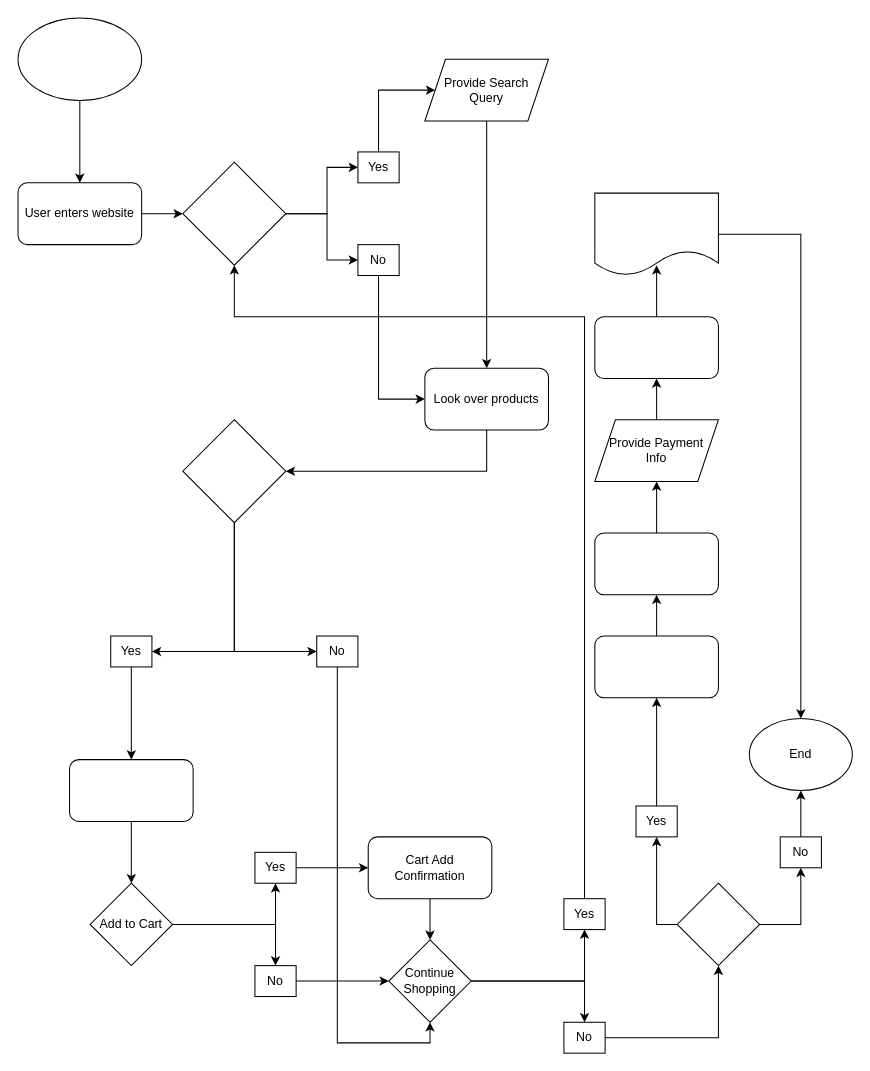
This 870x1071 diagram has some shape labels left out. Each missing label, with the centre of its shape:
"Checkout" belongs at point (718, 924).
"Email" belongs at point (656, 234).
"Open product page" belongs at point (130, 790).
"Order Confirmation" belongs at point (656, 347).
"Searching for Product" belongs at point (234, 213).
"Start" belongs at point (79, 58).
"View Cart" belongs at point (656, 666).
"View Payment" belongs at point (656, 563).
"View specific Product" belongs at point (234, 471).
